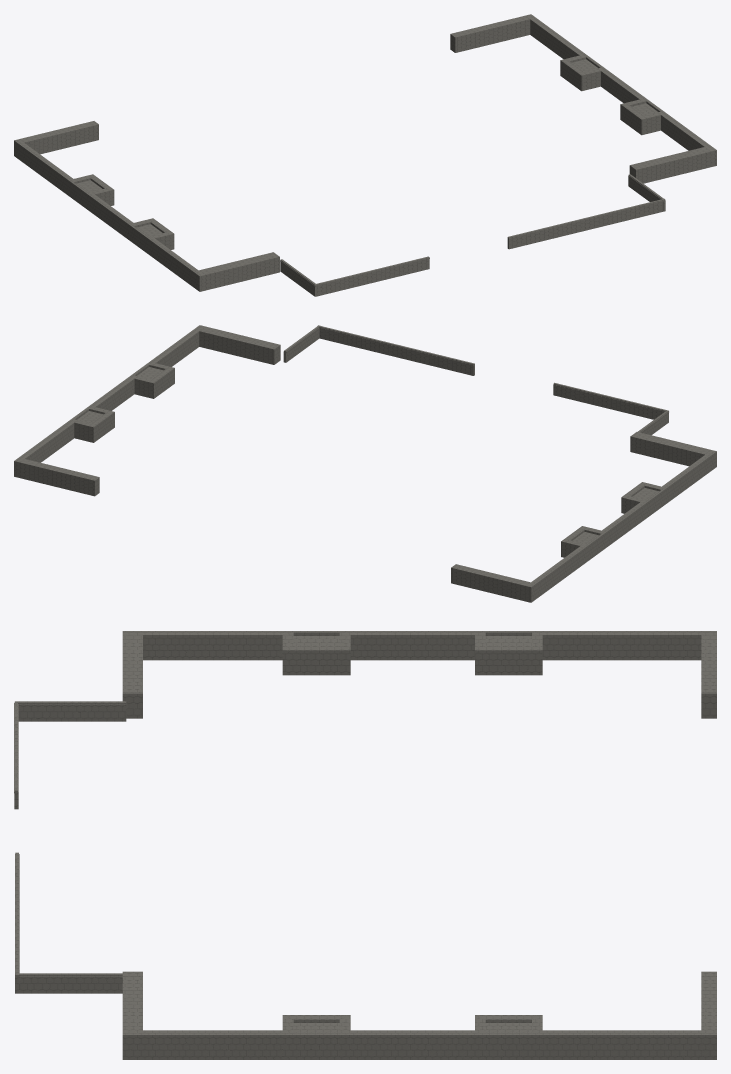
Rendered from Attachment.FBX.
3 views of the same model, one above another, from view 1: azimuth 30°, elevation 25°; view 2: azimuth 150°, elevation 25°; view 3: azimuth 270°, elevation 25° (orthographic). The views are drawn at different scales.
Parts seen in each view (by area): view 1: Attachments; view 2: Attachments; view 3: Attachments.
Boxes of the visible parts, x1=… form: Attachments: x1=14, y1=14, x2=716, y2=296; Attachments: x1=14, y1=325, x2=716, y2=602; Attachments: x1=14, y1=631, x2=716, y2=1059.
Size of the model in its own units: 580 by 16.84 by 427.
Materials: 1 (1 with a texture image).
